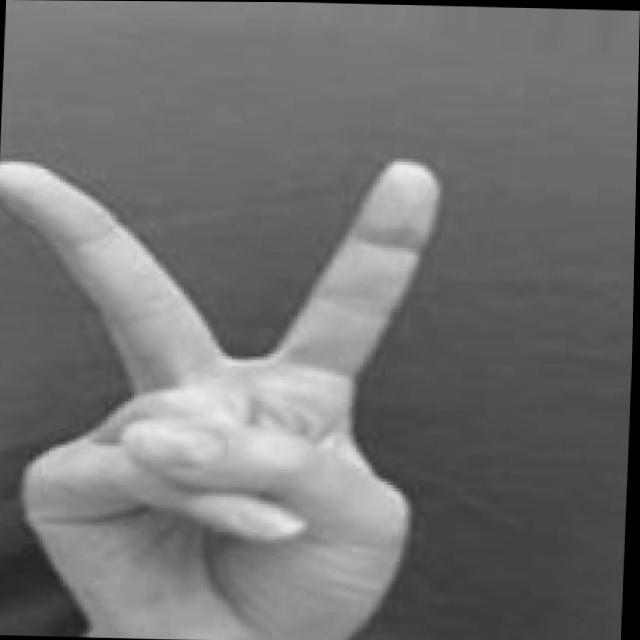V: (0, 145, 441, 640)
